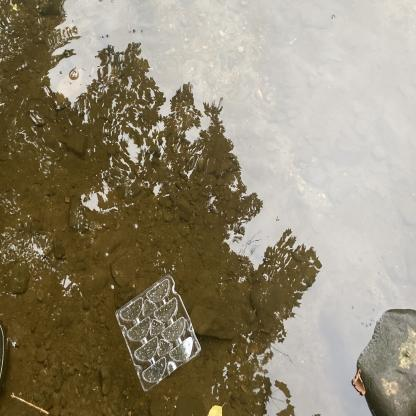trash: (110, 270, 206, 395)
